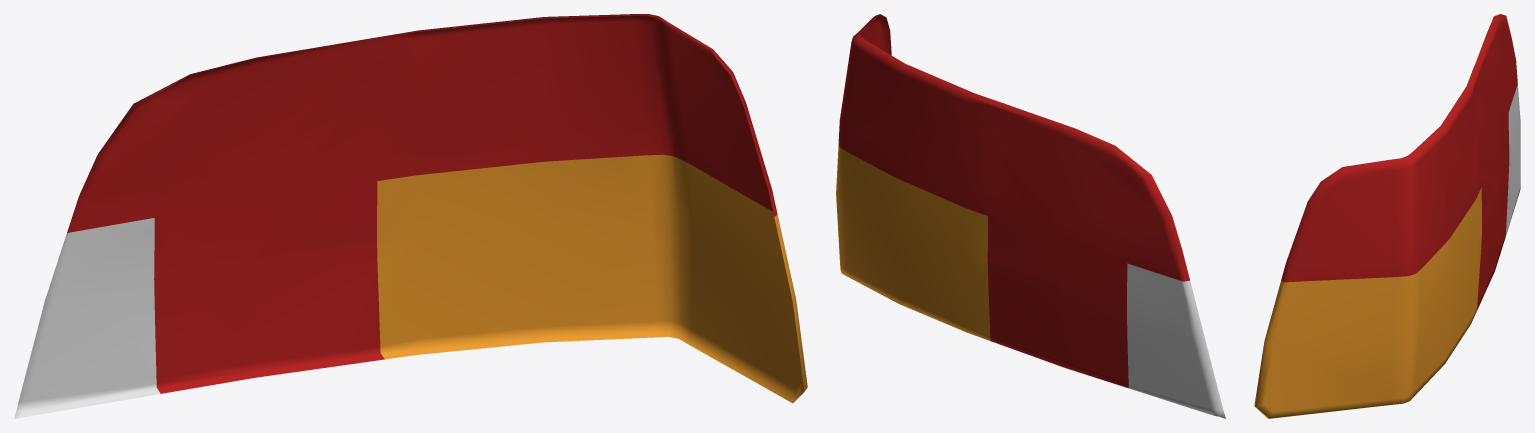
File: taillight_L.glb
The picture shows the model from 3 angles, left to right: view 1: azimuth 30°, elevation 25°; view 2: azimuth 150°, elevation 25°; view 3: azimuth 270°, elevation 25°; orthographic projection. The views are drawn at different scales.
Visible parts, largest first — view 1: taillight_L; view 2: taillight_L; view 3: taillight_L.
Part boxes in pixels (box(x1,y1,x2,y2)): taillight_L: box(14, 14, 807, 418); taillight_L: box(836, 14, 1225, 418); taillight_L: box(1254, 14, 1520, 418).
Size of the model in its own units: 0.3321 by 0.1704 by 0.1677.
